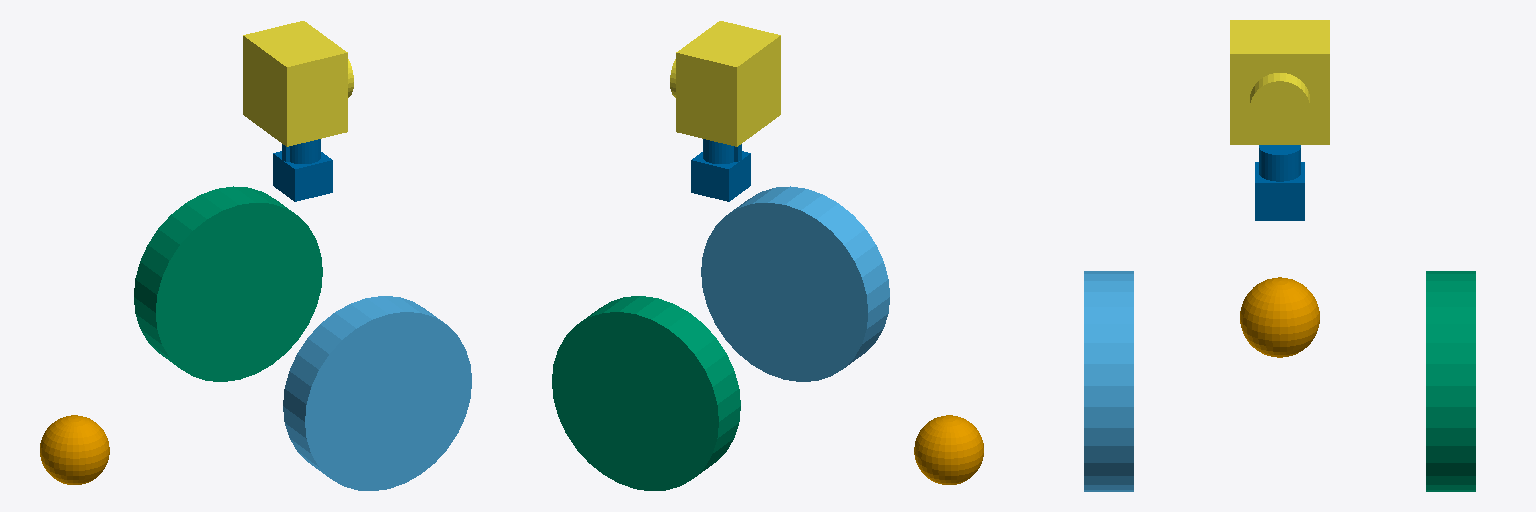
The robot description file, URDF, robot "robot":
<?xml version="1.0" ?>
<robot name="robot">
  <joint name="robot__left_wheel_hinge" type="fixed">
    <parent link="robot__base_link"/>
    <child link="robot__left_wheel"/>
    <origin rpy="0      1.5707  1.5707" xyz="0.09999  0.14     0.10999"/>
    <axis xyz="9.00000000e-05   9.00000000e-05   1.00000000e+00"/>
    <limit effort="0" lower="0" upper="0" velocity="0"/>
  </joint>
  <joint name="robot__right_wheel_hinge" type="fixed">
    <parent link="robot__base_link"/>
    <child link="robot__right_wheel"/>
    <origin rpy="0      1.5707  1.5707" xyz="0.1  -0.14  0.11"/>
    <axis xyz="9.00000000e-05   9.00000000e-05   1.00000000e+00"/>
    <limit effort="0" lower="0" upper="0" velocity="0"/>
  </joint>
  <joint name="robot__camera_joint" type="fixed">
    <parent link="robot__base_link"/>
    <child link="robot__camera__camera_link"/>
    <origin rpy="0  0  0" xyz="0.1    0     0.433"/>
    <axis xyz="0  0  1"/>
    <limit effort="0.0" lower="0.0" upper="0.0" velocity="0.0"/>
  </joint>
  <joint name="robot__hokuyo_joint" type="fixed">
    <parent link="robot__base_link"/>
    <child link="robot__hokuyo__hokuyo_link"/>
    <origin rpy="0  0  0" xyz="0.1    0     0.333"/>
    <axis xyz="0  0  1"/>
    <limit effort="0.0" lower="0.0" upper="0.0" velocity="0.0"/>
  </joint>
  <link name="robot__base_link">
    <inertial>
      <mass value="5.67"/>
      <origin rpy="0  0  0" xyz="0    0    0.16"/>
      <inertia ixx="0.07" ixy="0" ixz="0" iyy="0.08" iyz="0" izz="0.10"/>
    </inertial>
    <collision name="robot__collision">
      <origin rpy="0  0  0" xyz="0    0    0.16"/>
      <geometry>
        <box size="0.445 0.277 0.17"/>
      </geometry>
    </collision>
    <collision name="robot__castor_collision">
      <origin rpy="0  0  0" xyz="-0.2   0    0.04"/>
      <geometry>
        <sphere radius="0.04"/>
      </geometry>
    </collision>
    <visual name="robot__visual">
      <origin rpy="0  0  0" xyz="0   0   0.2"/>
      <geometry>
        <mesh filename="package://PATHTOMESHES/meshes/chassis.dae" scale="1.0 1.0 1.0"/>
      </geometry>
    </visual>
    <visual name="robot__castor_visual">
      <origin rpy="0  0  0" xyz="-0.2   0    0.04"/>
      <geometry>
        <sphere radius="0.04"/>
      </geometry>
    </visual>
  </link>
  <link name="robot__right_wheel">
    <inertial>
      <mass value="1.5"/>
      <origin rpy="0  0  0" xyz="0    0   -0.03"/>
      <inertia ixx="0.0051" ixy="0" ixz="0" iyy="0.0051" iyz="0" izz="0.0090"/>
    </inertial>
    <collision name="robot__collision">
      <origin rpy="0  0  0" xyz="0    0   -0.03"/>
      <geometry>
        <cylinder length="0.05" radius="0.11"/>
      </geometry>
    </collision>
    <visual name="robot__visual">
      <origin rpy="0  0  0" xyz="0    0   -0.03"/>
      <geometry>
        <cylinder length="0.05" radius="0.11"/>
      </geometry>
    </visual>
  </link>
  <link name="robot__left_wheel">
    <inertial>
      <mass value="1.5"/>
      <origin rpy="0  0  0" xyz="0    0    0.03"/>
      <inertia ixx="0.0051" ixy="0" ixz="0" iyy="0.0051" iyz="0" izz="0.0090"/>
    </inertial>
    <collision name="robot__collision">
      <origin rpy="0  0  0" xyz="0    0    0.03"/>
      <geometry>
        <cylinder length="0.05" radius="0.11"/>
      </geometry>
    </collision>
    <visual name="robot__visual">
      <origin rpy="0  0  0" xyz="0    0    0.03"/>
      <geometry>
        <cylinder length="0.05" radius="0.11"/>
      </geometry>
    </visual>
  </link>
  <link name="robot__camera__camera_link">
    <inertial>
      <mass value="0.1"/>
      <origin rpy="0  0  0" xyz="0  0  0"/>
      <inertia ixx="0.000166667" ixy="0" ixz="0" iyy="0.000166667" iyz="0" izz="0.000166667"/>
    </inertial>
    <collision name="robot__camera__collision-box">
      <origin rpy="0  0  0" xyz="-0.01  0    0"/>
      <geometry>
        <box size="0.08 0.1 0.1"/>
      </geometry>
    </collision>
    <collision name="robot__camera__collision-lens">
      <origin rpy="0    1.57  0" xyz="0.04  0    0"/>
      <geometry>
        <cylinder length="0.02" radius="0.03"/>
      </geometry>
    </collision>
    <visual name="robot__camera__visual-box">
      <origin rpy="0  0  0" xyz="-0.01  0    0"/>
      <geometry>
        <box size="0.08 0.1 0.1"/>
      </geometry>
    </visual>
    <visual name="robot__camera__visual-lens">
      <origin rpy="0    1.57  0" xyz="0.04  0    0"/>
      <geometry>
        <cylinder length="0.02" radius="0.03"/>
      </geometry>
    </visual>
  </link>
  <link name="robot__hokuyo__hokuyo_link">
    <inertial>
      <mass value="0.1"/>
      <origin rpy="0  0  0" xyz="0  0  0"/>
      <inertia ixx="0.6205208333e-04" ixy="0" ixz="0" iyy="0.6205208333e-04" iyz="0" izz="4.1927083333e-05"/>
    </inertial>
    <collision name="robot__hokuyo__collision-base">
      <origin rpy="0  0  0" xyz="0      0     -0.0145"/>
      <geometry>
        <box size="0.05 0.05 0.041"/>
      </geometry>
    </collision>
    <collision name="robot__hokuyo__collision-top">
      <origin rpy="0  0  0" xyz="0      0      0.0205"/>
      <geometry>
        <cylinder length="0.029" radius="0.021"/>
      </geometry>
    </collision>
    <visual name="robot__hokuyo__visual-base">
      <origin rpy="0  0  0" xyz="0      0     -0.0145"/>
      <geometry>
        <box size="0.05 0.05 0.041"/>
      </geometry>
    </visual>
    <visual name="robot__hokuyo__visual-top">
      <origin rpy="0  0  0" xyz="0      0      0.0205"/>
      <geometry>
        <cylinder length="0.029" radius="0.021"/>
      </geometry>
    </visual>
    <visual name="robot__hokuyo__visual-top-back">
      <origin rpy="0  0  0" xyz="-0.02   0     0.019"/>
      <geometry>
        <box size="0.01 0.01 0.025"/>
      </geometry>
    </visual>
  </link>
</robot>

--- What the picture shows (computed from the rendered views, not written in the file) ---
3 views of the same robot in one strip: view 1: azimuth 30°, elevation 25°; view 2: azimuth 150°, elevation 25°; view 3: azimuth 270°, elevation 25° (orthographic).
Robot: robot — 5 links, 4 joints (4 fixed); root link robot__base_link; default pose: every joint at zero.
Links seen in each view (by area): view 1: robot__left_wheel, robot__right_wheel, robot__camera__camera_link, robot__base_link, robot__hokuyo__hokuyo_link; view 2: robot__right_wheel, robot__left_wheel, robot__camera__camera_link, robot__base_link, robot__hokuyo__hokuyo_link; view 3: robot__camera__camera_link, robot__right_wheel, robot__left_wheel, robot__base_link, robot__hokuyo__hokuyo_link.
Link boxes in pixels (<box>): robot__left_wheel: <box>134,186,322,381</box>; robot__right_wheel: <box>283,296,471,490</box>; robot__camera__camera_link: <box>243,21,353,146</box>; robot__base_link: <box>40,415,109,484</box>; robot__hokuyo__hokuyo_link: <box>273,139,332,201</box>; robot__right_wheel: <box>701,186,889,381</box>; robot__left_wheel: <box>552,296,740,490</box>; robot__camera__camera_link: <box>670,21,780,146</box>; robot__base_link: <box>914,415,983,484</box>; robot__hokuyo__hokuyo_link: <box>691,139,750,201</box>; robot__camera__camera_link: <box>1230,20,1329,144</box>; robot__right_wheel: <box>1084,271,1133,491</box>; robot__left_wheel: <box>1426,271,1475,491</box>; robot__base_link: <box>1240,277,1319,357</box>; robot__hokuyo__hokuyo_link: <box>1255,145,1304,220</box>.
Size in the robot's own frame: 0.45 by 0.39 by 0.483 metres.
0 mesh visuals loaded from 1 distinct referenced files (none loaded); not drawn: 1 (reference not matched to a file when rendering).